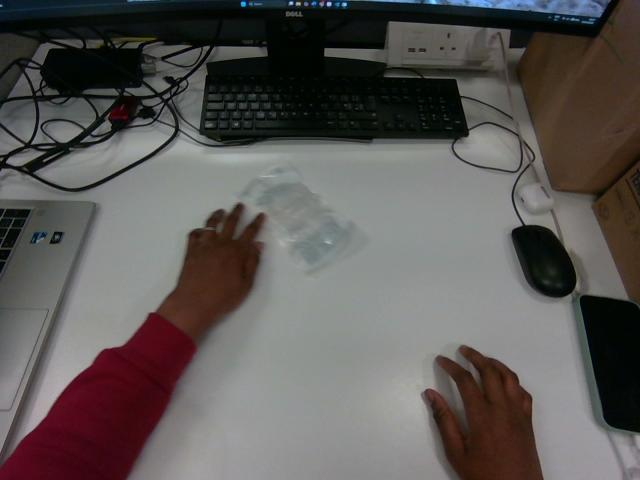gallipot: (239, 165, 364, 272)
